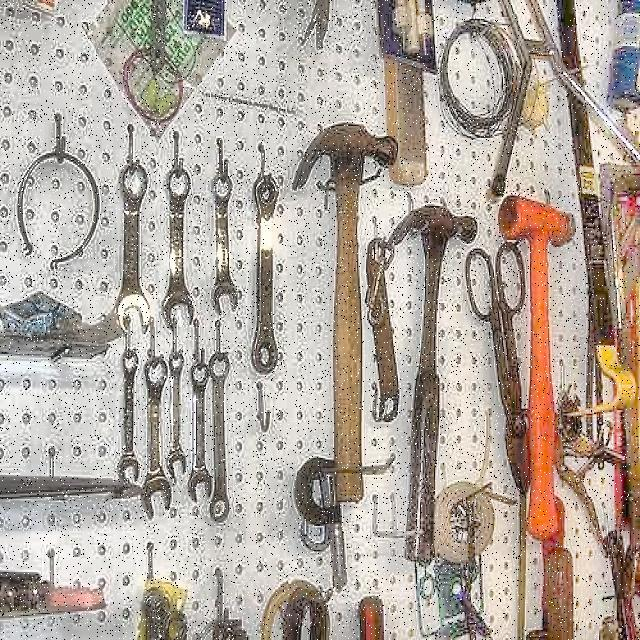hammer: (292, 120, 398, 498), (390, 190, 478, 562)
